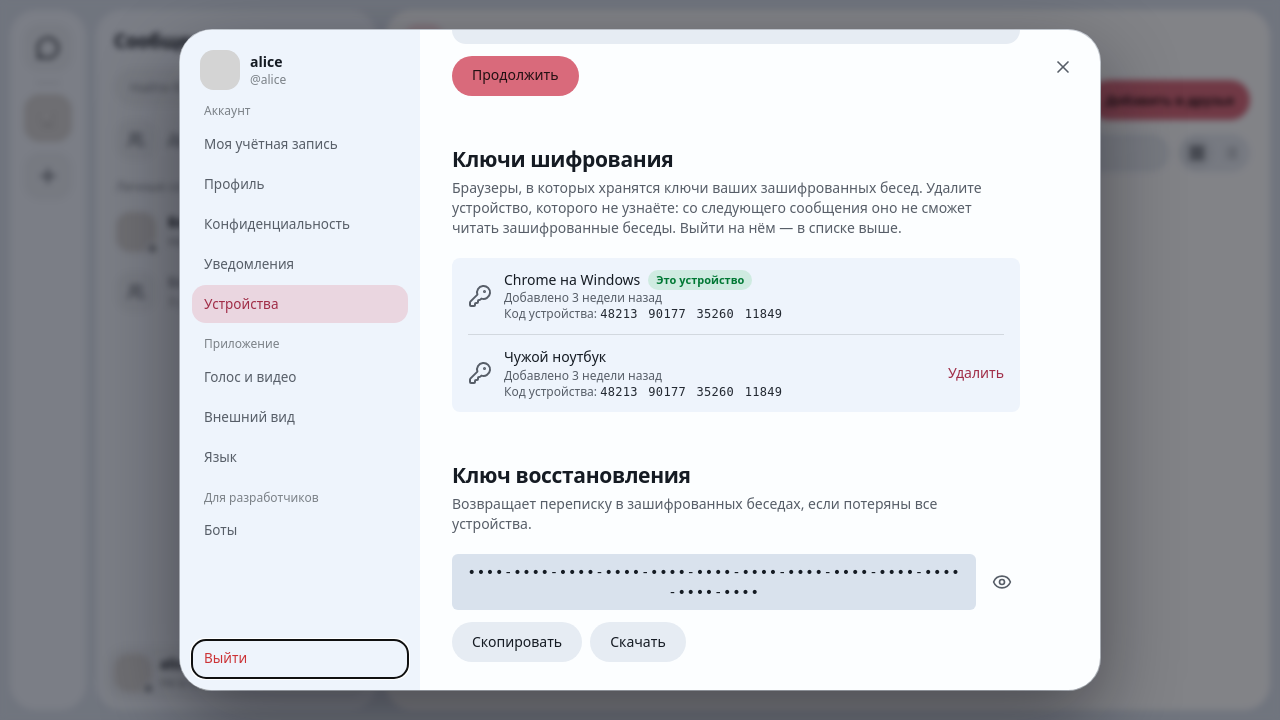
Test case: encryption devices in settings › lists my devices, marks this one, and removes another
(page scrolled)
Expected: the text "Это устройство" is shown, [648,270,752,290]
Click the button with aria-label "Удалить ключи устройства Чужой ноутбук" at [976, 374], box [948,364,1004,384]
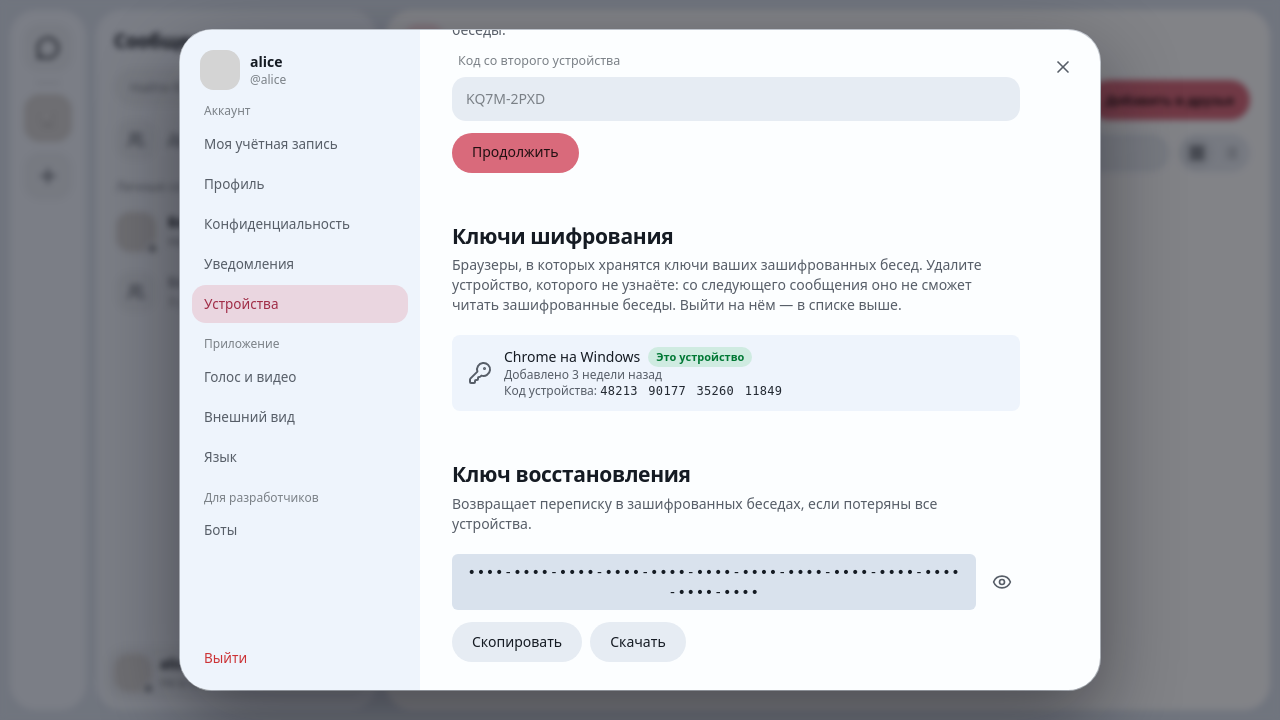
Now the text "Чужой ноутбук" is gone
